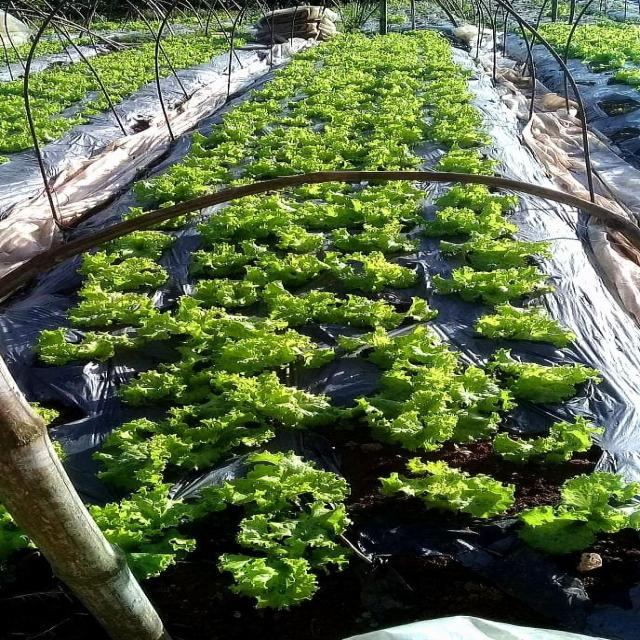Lettuce: (356, 451, 516, 527), (222, 514, 362, 597), (515, 466, 640, 549), (89, 486, 198, 572), (121, 364, 319, 408), (88, 422, 276, 468), (351, 388, 508, 440), (485, 351, 602, 404), (294, 292, 446, 331), (235, 448, 342, 500), (189, 327, 320, 368), (432, 259, 566, 298), (505, 410, 598, 462), (51, 277, 154, 322), (382, 340, 478, 388), (177, 273, 294, 311), (477, 301, 581, 342), (176, 234, 272, 275), (319, 195, 426, 230), (324, 250, 411, 292), (29, 328, 128, 364), (332, 225, 423, 257), (438, 202, 518, 238), (83, 252, 164, 282), (146, 304, 221, 336), (193, 212, 281, 238), (438, 184, 520, 210), (245, 255, 322, 282), (134, 174, 213, 199), (437, 152, 501, 178), (427, 100, 492, 125), (117, 229, 175, 255), (293, 150, 356, 173), (297, 201, 355, 225), (272, 225, 324, 251), (429, 126, 490, 148), (366, 142, 420, 163), (172, 154, 233, 172), (358, 180, 426, 196), (272, 128, 322, 149), (336, 71, 383, 93), (243, 152, 288, 174), (210, 120, 262, 139), (188, 144, 247, 160), (224, 196, 290, 210), (382, 73, 424, 94), (320, 127, 360, 149), (320, 106, 360, 128), (378, 93, 423, 112), (300, 92, 361, 106), (271, 114, 317, 129), (428, 65, 475, 79), (267, 68, 309, 83), (242, 98, 280, 114), (252, 84, 294, 98), (425, 78, 473, 90), (305, 75, 335, 93), (225, 109, 268, 121), (436, 92, 478, 104), (352, 56, 385, 71), (392, 56, 422, 71), (287, 58, 319, 72), (423, 51, 457, 64), (293, 45, 324, 59), (357, 42, 388, 56), (321, 51, 351, 65), (392, 40, 422, 53), (342, 31, 371, 43), (380, 31, 411, 39), (415, 27, 439, 37), (425, 43, 455, 50), (423, 36, 453, 43)
